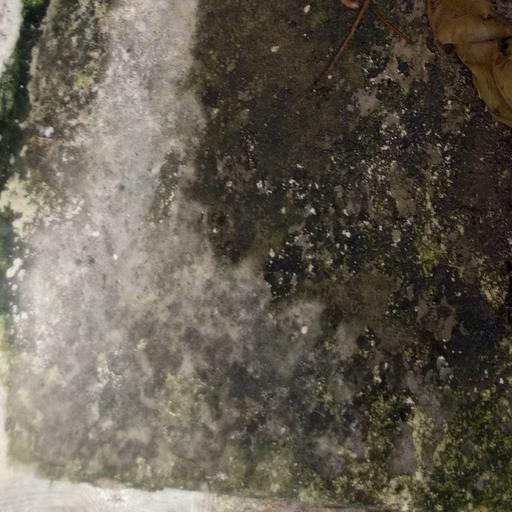algae: (0, 0, 511, 504)
